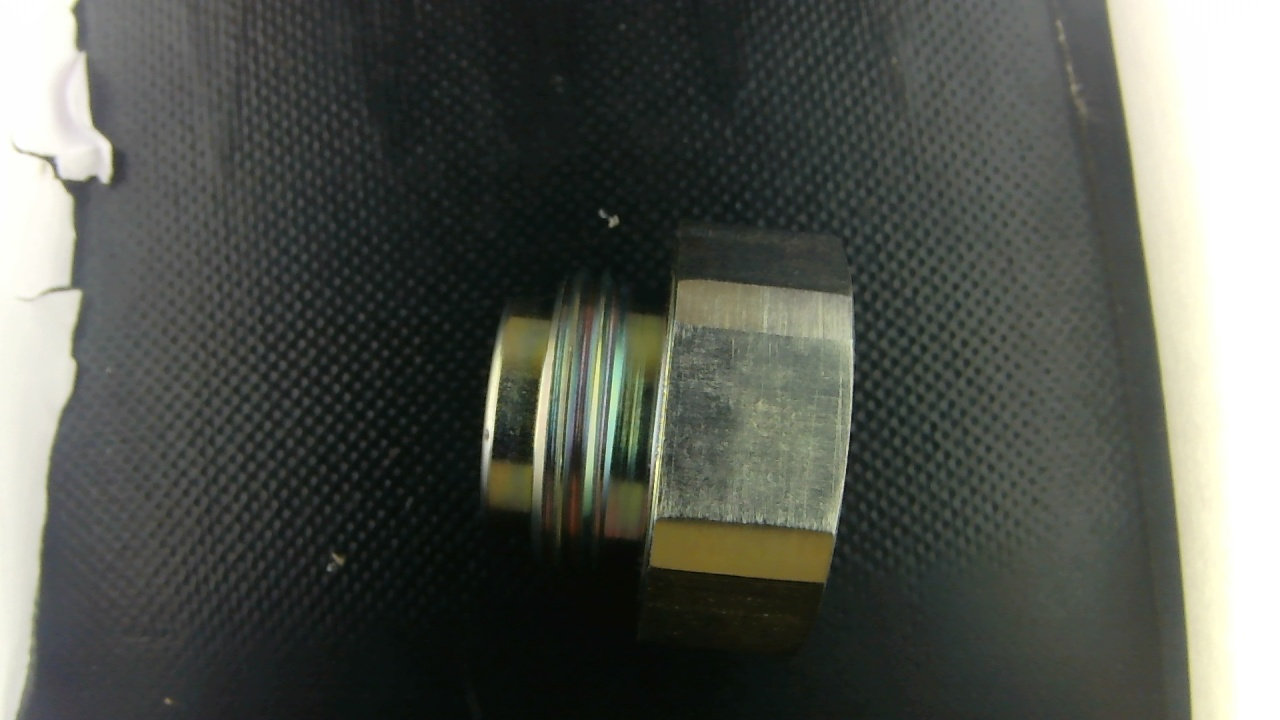Capnut_Okay: (481, 224, 853, 652)
